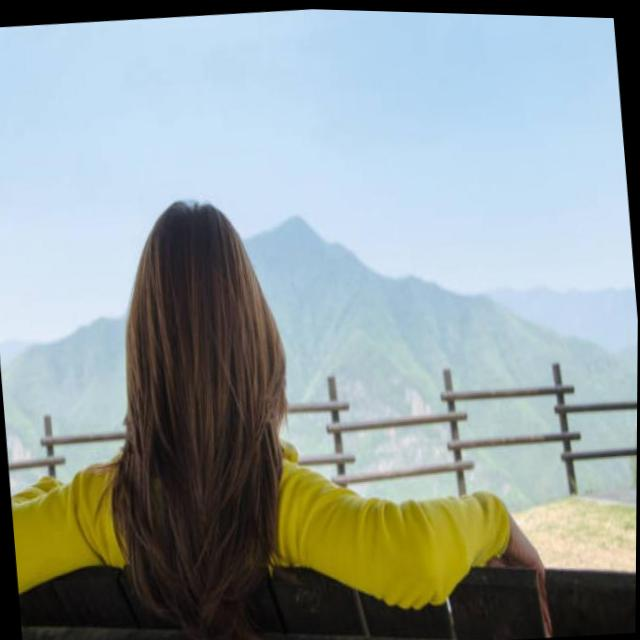no helmet: (122, 187, 296, 490)
